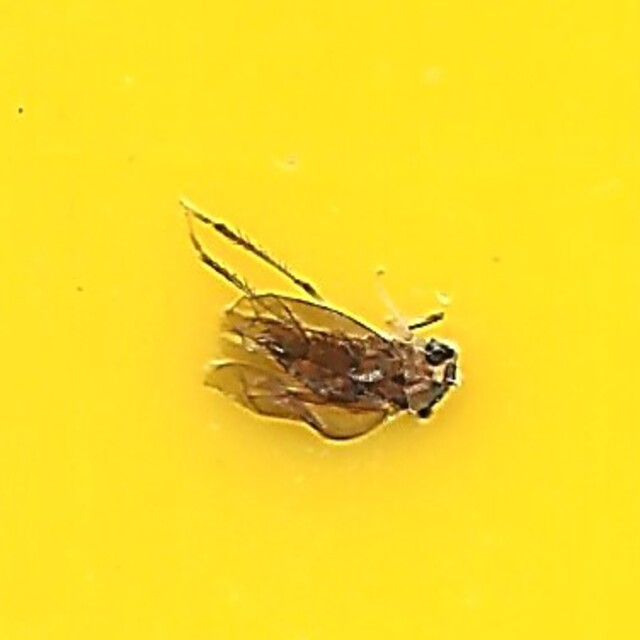Hemiptera: (170, 193, 470, 447)
